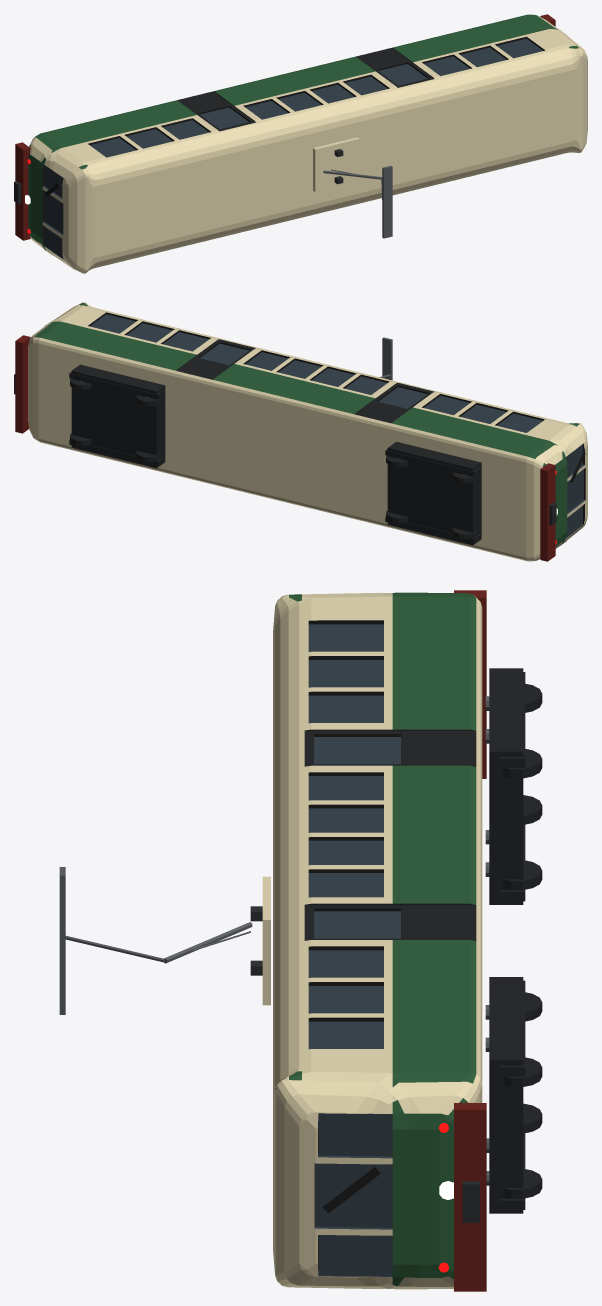
3 renders of one model, top to bottom at view 1: azimuth 30°, elevation 25°; view 2: azimuth 150°, elevation 25°; view 3: azimuth 270°, elevation 25°, orthographic. The views are drawn at different scales.
Visible parts, largest first — view 1: W8_body_s0, W8_pan_base_013, W8_bumper_005, W8_pan_head_019; view 2: W8_body_s0, W8_bogie_frame_035, W8_bogie_frame_020, W8_bumper_005, W8_bumper_011, W8_bogie_side_028, W8_bogie_side_043, W8_bogie_side_036, W8_pan_head_019, W8_bogie_side_021; view 3: W8_body_s0, W8_bogie_frame_020, W8_bogie_frame_035, W8_bumper_011, W8_pan_base_013, W8_bumper_005, W8_pan_head_019.
Boxes of the visible parts, x1,y1,x2,y2 form: W8_body_s0: (28, 14, 587, 273); W8_pan_base_013: (313, 137, 359, 192); W8_bumper_005: (15, 142, 30, 240); W8_pan_head_019: (382, 165, 392, 238); W8_body_s0: (28, 302, 587, 561); W8_bogie_frame_035: (71, 364, 165, 468); W8_bogie_frame_020: (387, 441, 481, 545); W8_bumper_005: (540, 463, 555, 561); W8_bumper_011: (15, 335, 30, 433); W8_bogie_side_028: (385, 449, 480, 476); W8_bogie_side_043: (69, 372, 164, 399); W8_bogie_side_036: (69, 440, 164, 466); W8_pan_head_019: (382, 337, 392, 380); W8_bogie_side_021: (385, 517, 480, 543); W8_body_s0: (273, 592, 482, 1289); W8_bogie_frame_020: (489, 668, 523, 904); W8_bogie_frame_035: (489, 977, 523, 1213); W8_bumper_011: (454, 1103, 486, 1291); W8_pan_base_013: (262, 876, 270, 1005); W8_bumper_005: (454, 590, 486, 778); W8_pan_head_019: (59, 867, 65, 1014).
Bounding box in the file's own units: 14.53 × 2.74 × 5.64.
